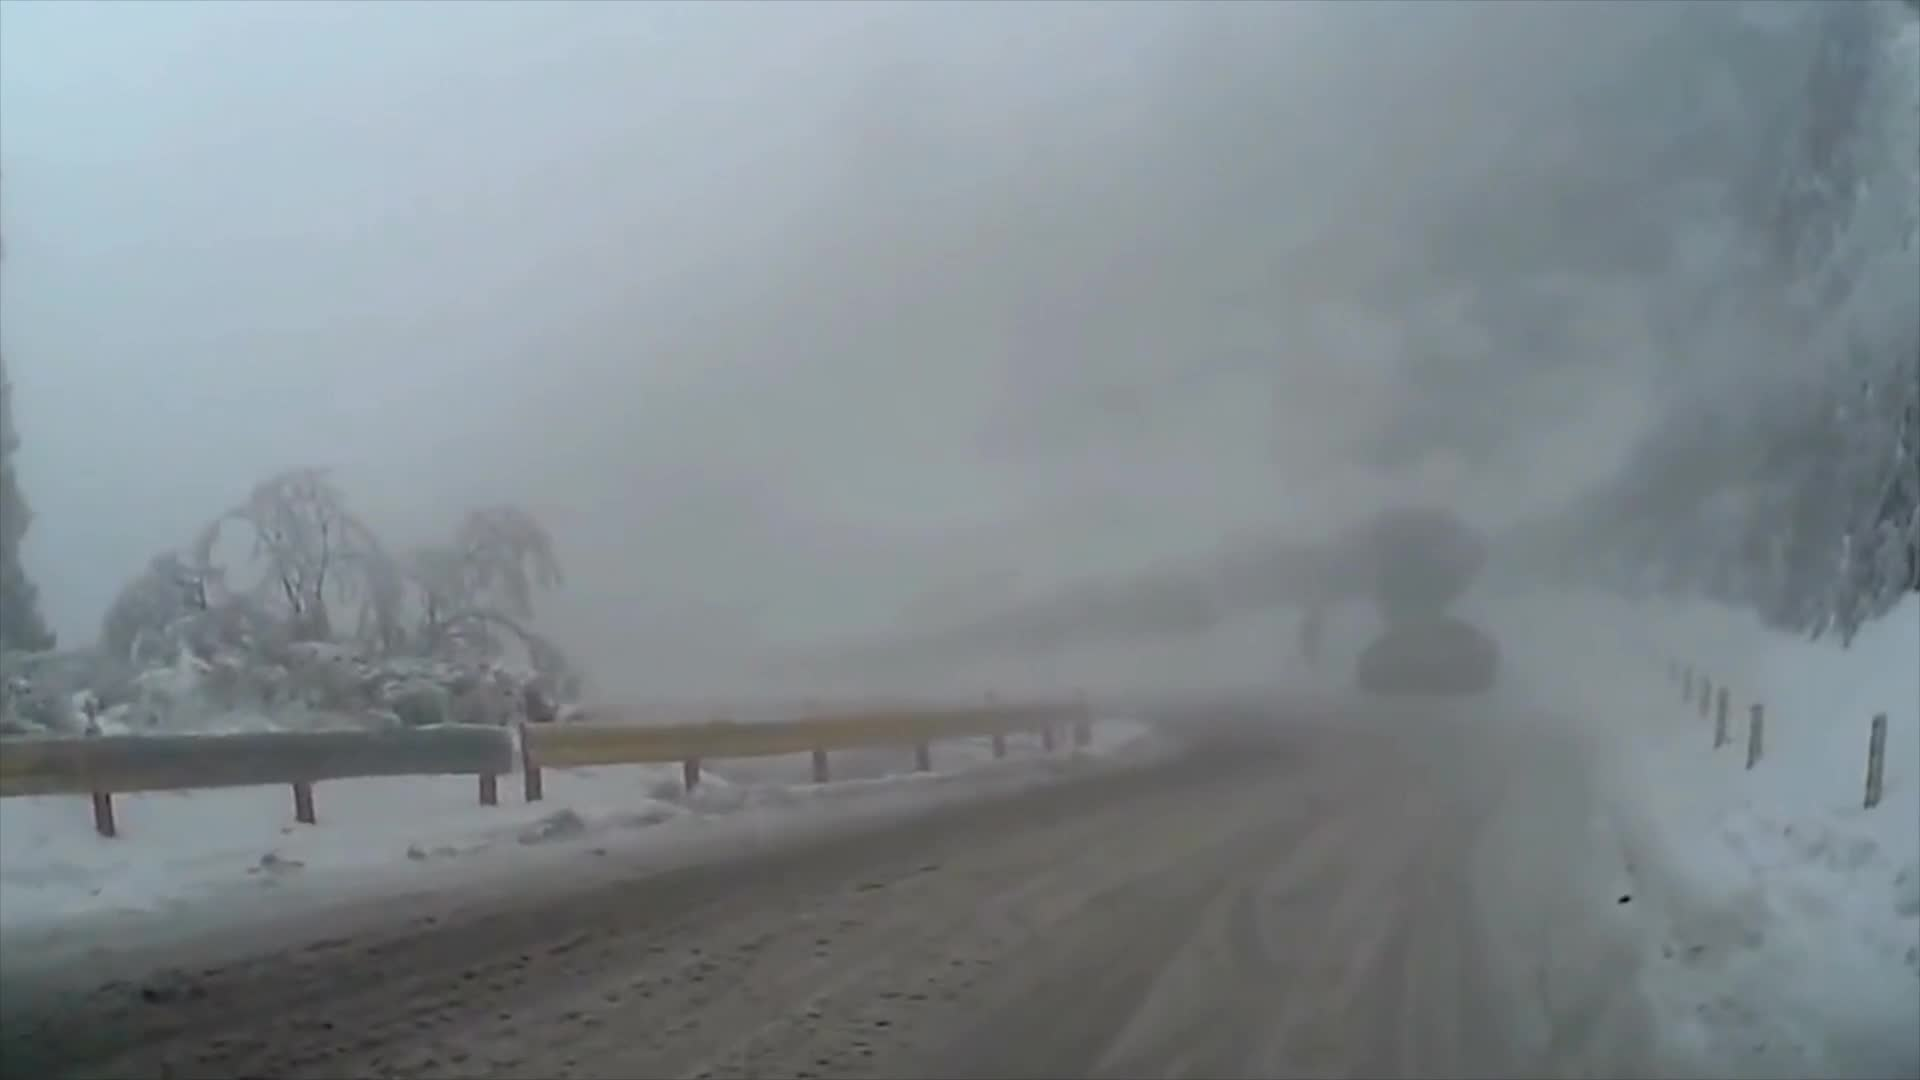vehicle: (1357, 622, 1501, 700)
